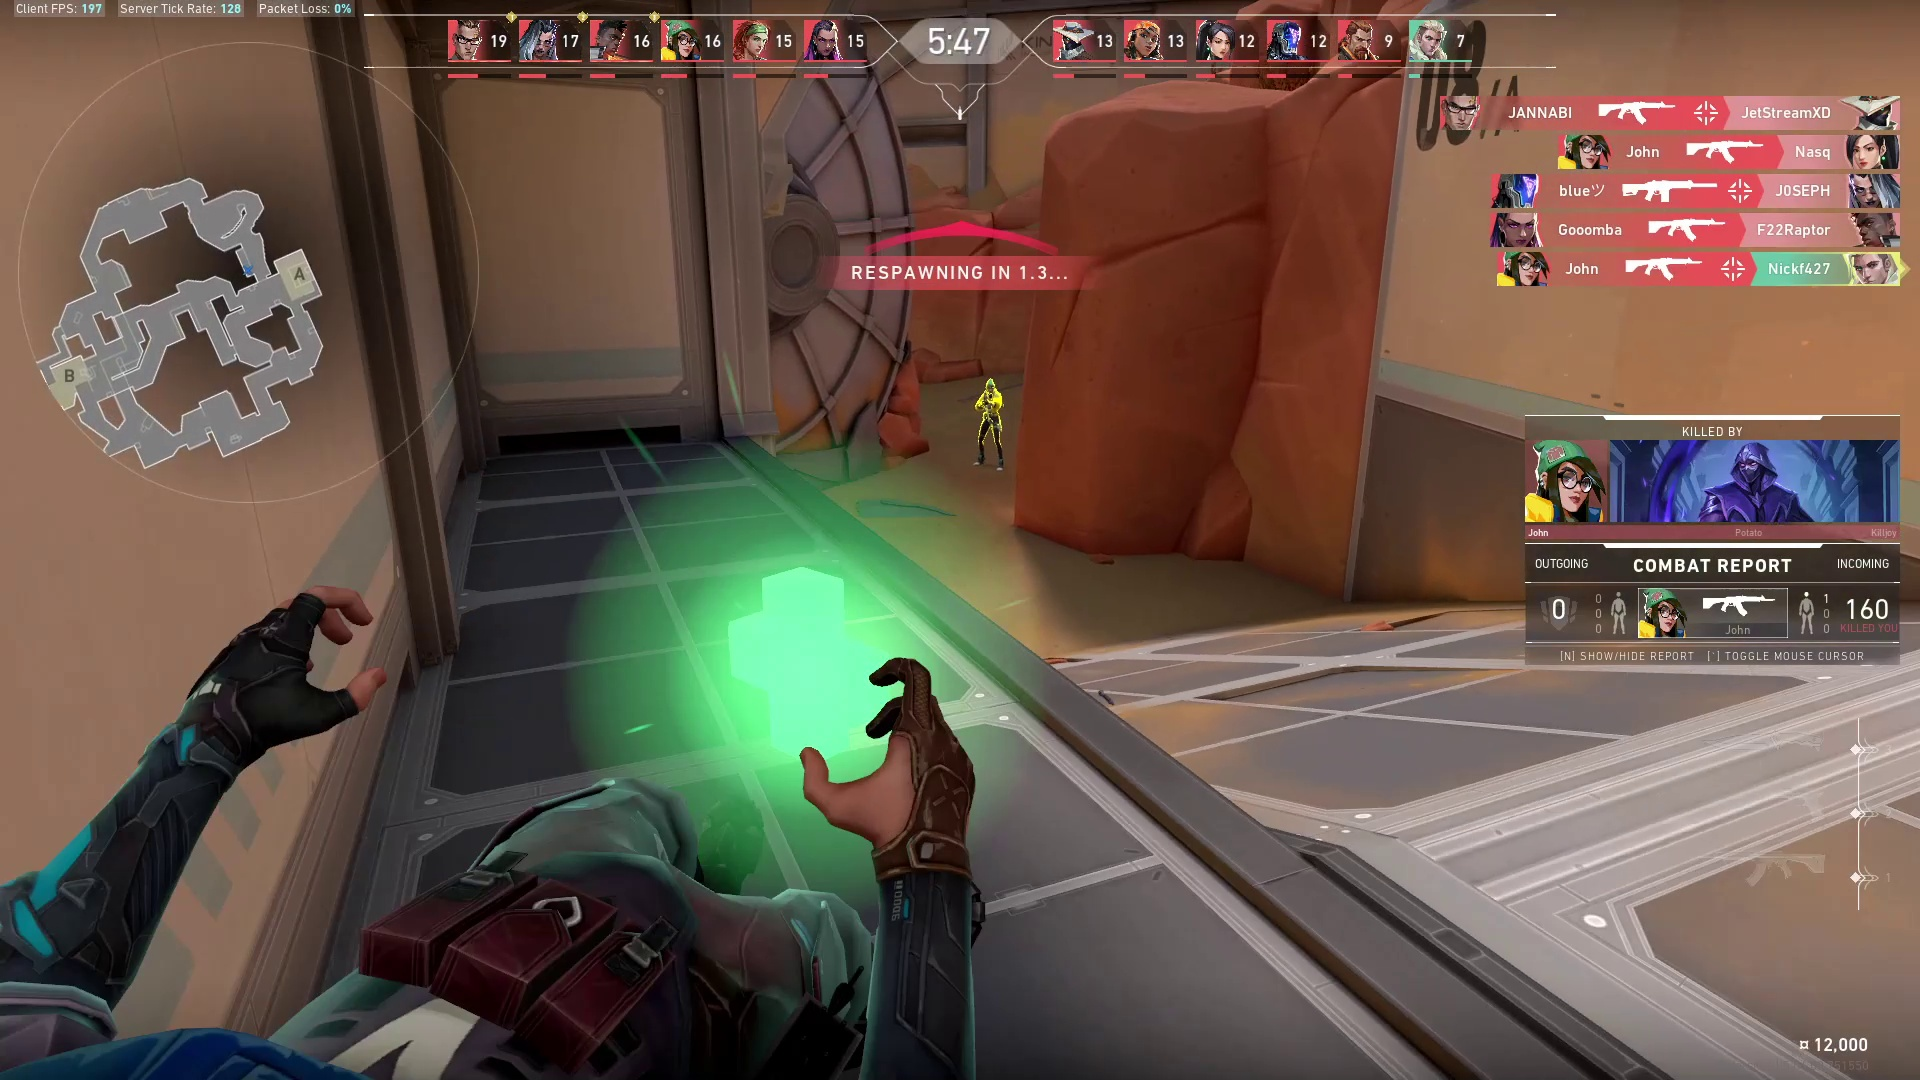enemy_body: (974, 393, 1008, 473)
enemy_head: (983, 376, 998, 395)
